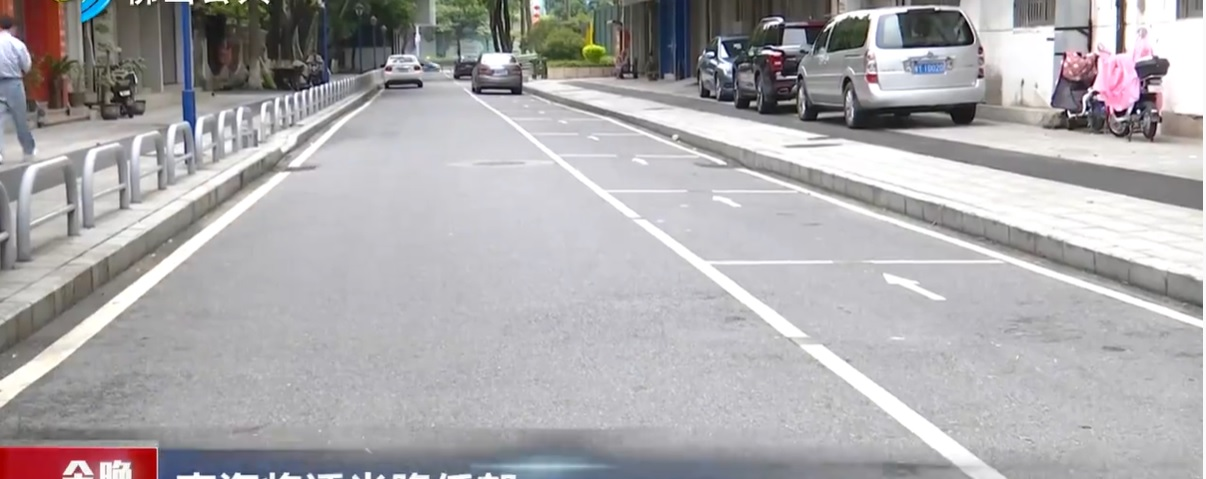slot_nocar: (653, 239, 1206, 478), (573, 169, 1036, 284), (543, 141, 820, 210), (512, 119, 727, 164), (500, 108, 658, 146), (470, 82, 587, 116)
